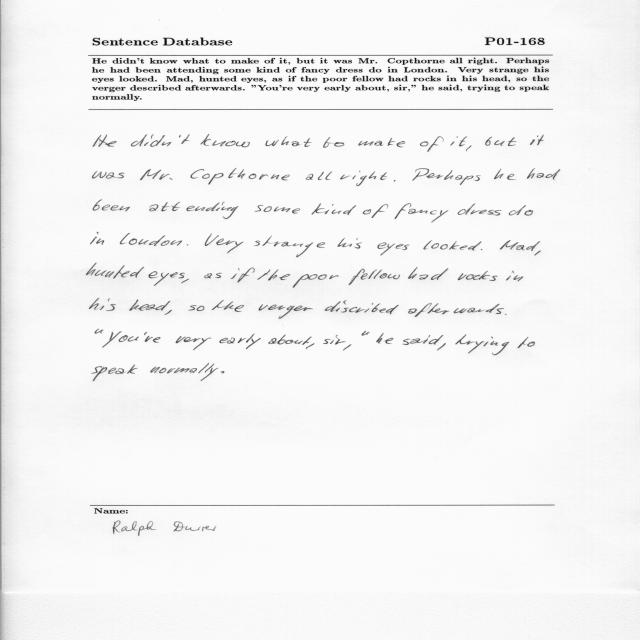word: (191, 168, 290, 185), (254, 236, 325, 258), (150, 202, 239, 219), (408, 303, 504, 317), (150, 363, 219, 381), (412, 168, 481, 185), (456, 335, 510, 356), (395, 203, 449, 223), (325, 301, 399, 315), (87, 263, 145, 279), (258, 304, 313, 319), (349, 269, 400, 285), (120, 233, 182, 246), (92, 365, 138, 382), (131, 134, 190, 147), (102, 331, 147, 348), (205, 234, 243, 254), (340, 170, 387, 186), (200, 135, 250, 148), (423, 240, 482, 251), (293, 274, 338, 288), (219, 334, 261, 349), (148, 271, 185, 286), (312, 203, 357, 215), (343, 331, 370, 351), (458, 204, 502, 216), (408, 267, 448, 280), (266, 136, 312, 147), (176, 336, 212, 350), (268, 334, 312, 345), (130, 300, 171, 311), (500, 240, 540, 251), (359, 138, 406, 147), (378, 243, 410, 256), (403, 335, 444, 345), (93, 200, 130, 211), (458, 271, 498, 281), (527, 168, 560, 180), (258, 269, 291, 281), (420, 136, 444, 152), (212, 300, 244, 312), (255, 205, 300, 213), (231, 268, 255, 283), (140, 169, 172, 180), (90, 298, 117, 311), (363, 204, 388, 218), (93, 135, 117, 147), (485, 137, 517, 146), (337, 238, 362, 249), (509, 205, 533, 216), (93, 171, 125, 179), (323, 137, 344, 148), (494, 169, 515, 180), (323, 335, 346, 345), (306, 172, 332, 180), (518, 337, 536, 348), (506, 271, 523, 282), (91, 232, 105, 245), (450, 136, 467, 146), (530, 135, 544, 146), (145, 336, 160, 343), (189, 305, 205, 311), (204, 273, 221, 278), (376, 333, 384, 343), (437, 343, 446, 351), (306, 343, 315, 349), (385, 338, 394, 344), (95, 329, 103, 334), (534, 251, 541, 256), (165, 310, 172, 315), (181, 279, 189, 283), (466, 146, 471, 152), (221, 371, 224, 373), (394, 180, 396, 182), (187, 244, 188, 246), (481, 249, 483, 250), (505, 314, 507, 315)
